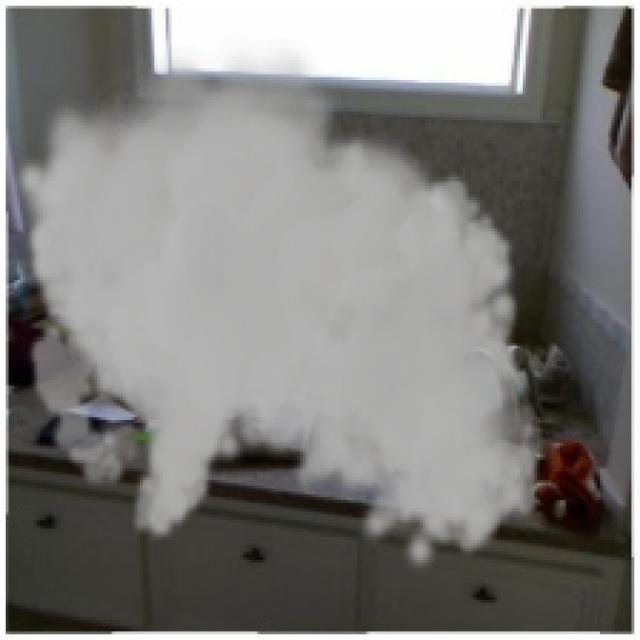Smoke: (11, 34, 546, 574)
